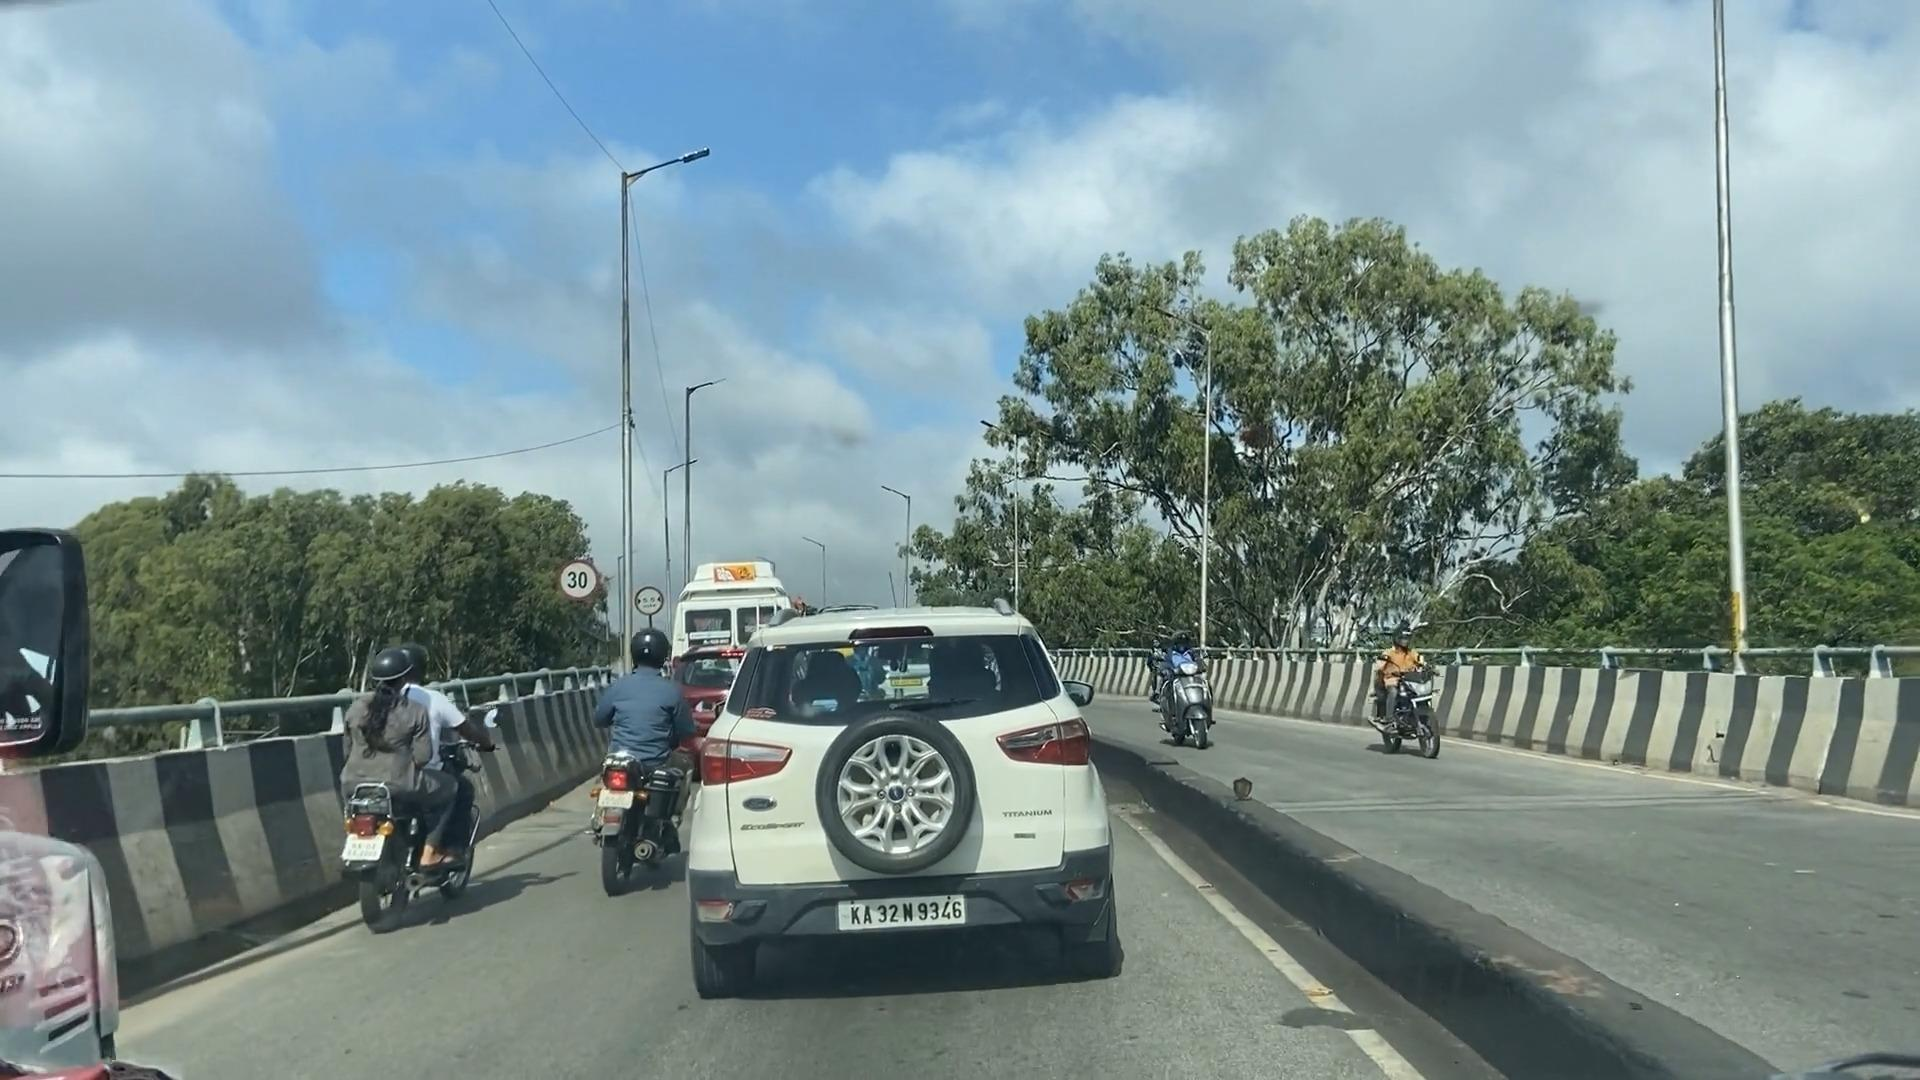LMV: (684, 611, 1127, 981), (335, 611, 456, 940), (587, 613, 678, 914)
